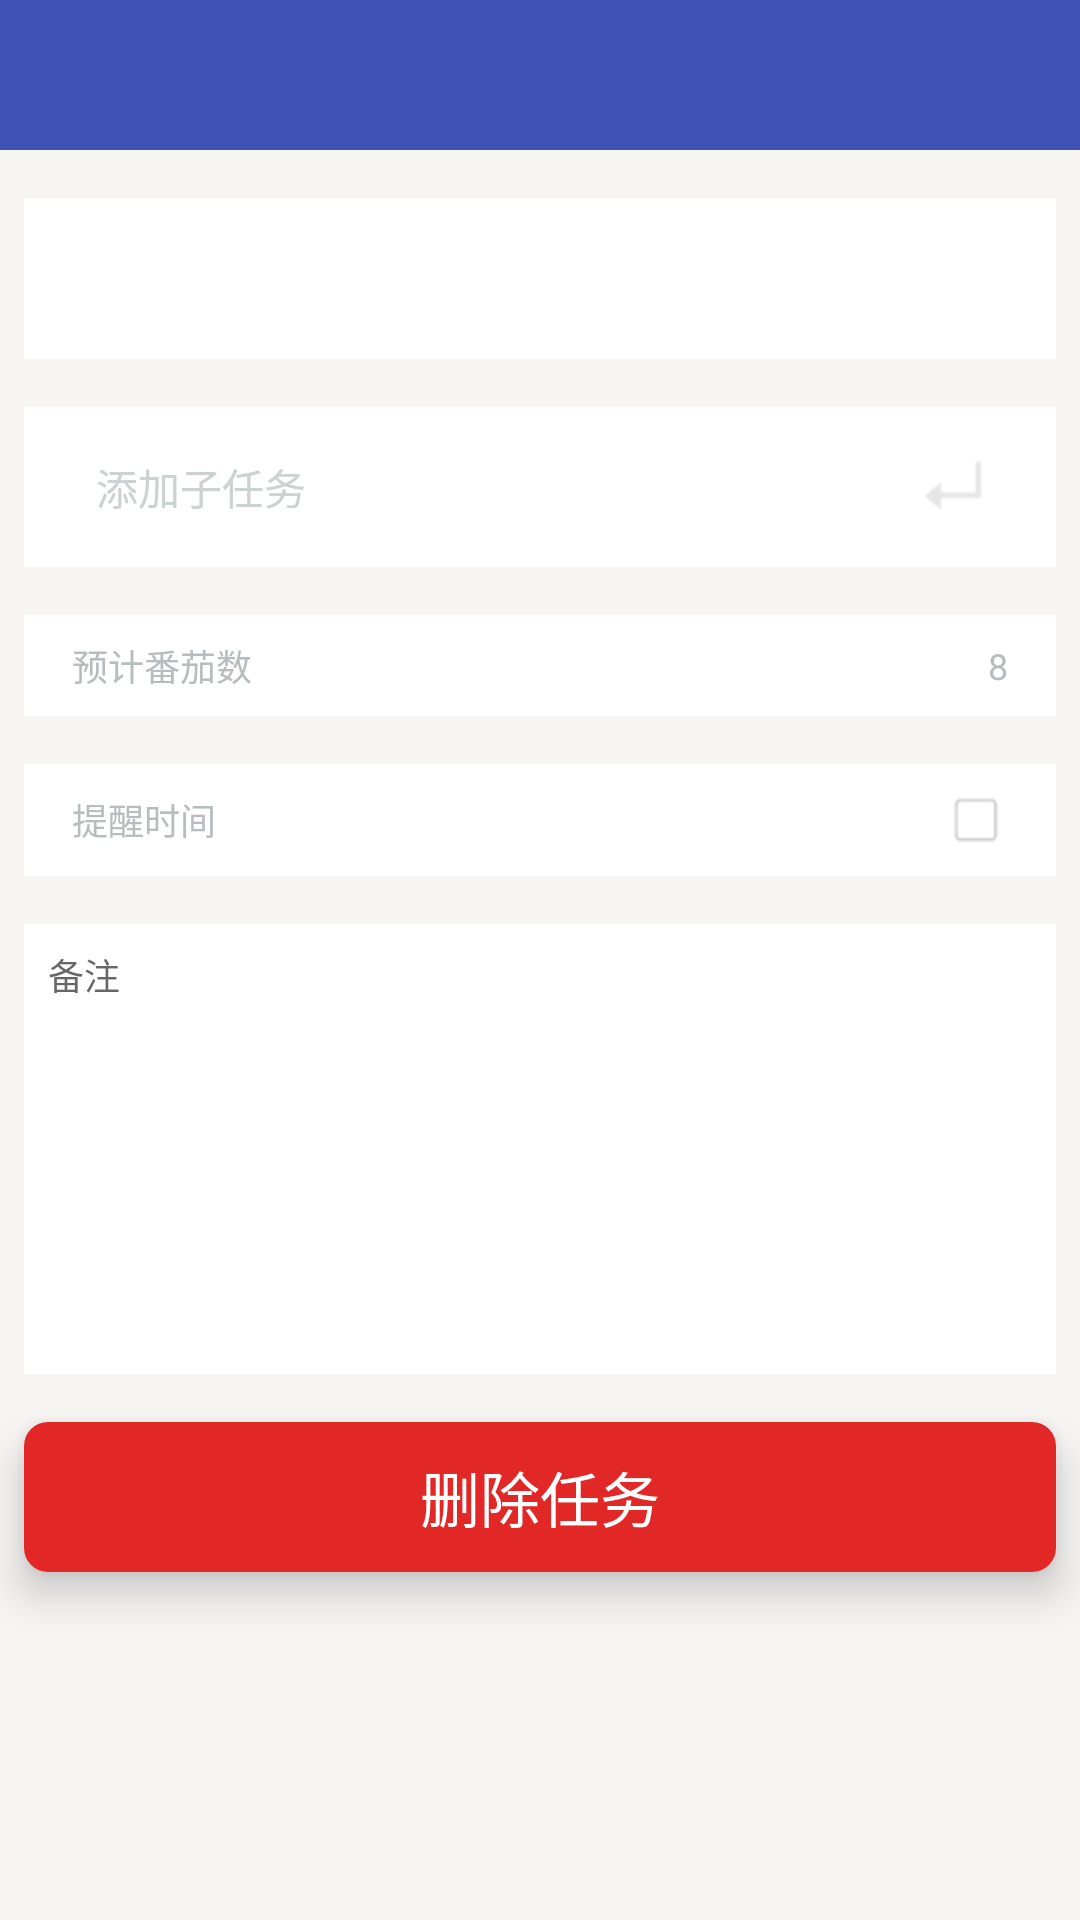

Where to tap for icons on this 1080px×1920px app screen, as [x,y]:
checkbox: [976,820]
enter: [954,484]
